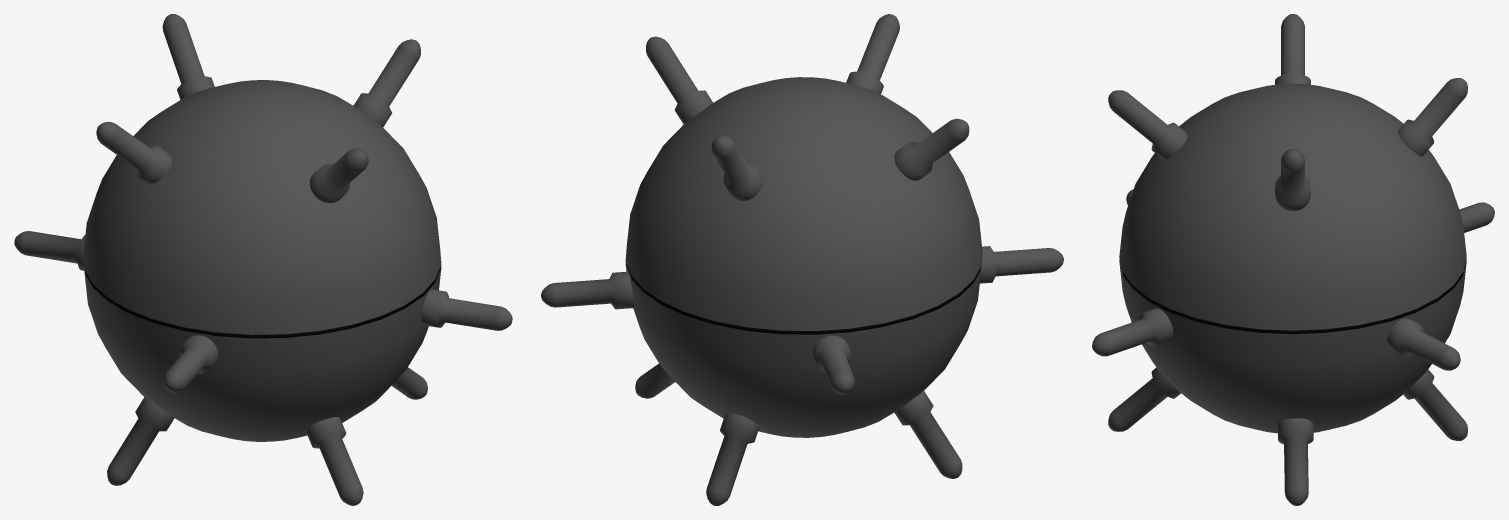
Rendered from mine.glb.
The picture shows the model from 3 angles, left to right: view 1: azimuth 30°, elevation 25°; view 2: azimuth 150°, elevation 25°; view 3: azimuth 270°, elevation 25°; orthographic projection. The views are drawn at different scales.
Size of the model in its own units: 1.91 by 1.88 by 1.91.
Materials: 14 (14 with a texture image).
